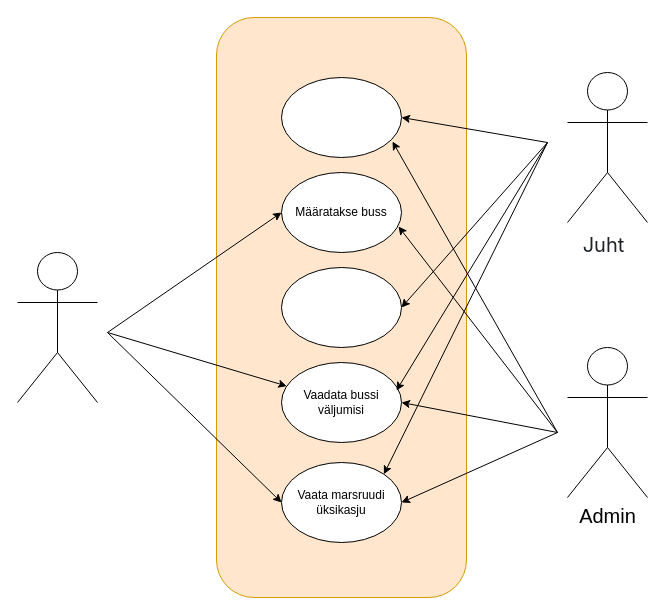
The diagram is 665 pixels wide and 615 high, and some of its shapes have lost their labels. Each missing label, with the box of its shape:
Teata viivitusest: (280, 76, 402, 158)
Uuenda asukohta: (280, 266, 402, 348)
õpilane: (16, 252, 98, 402)
